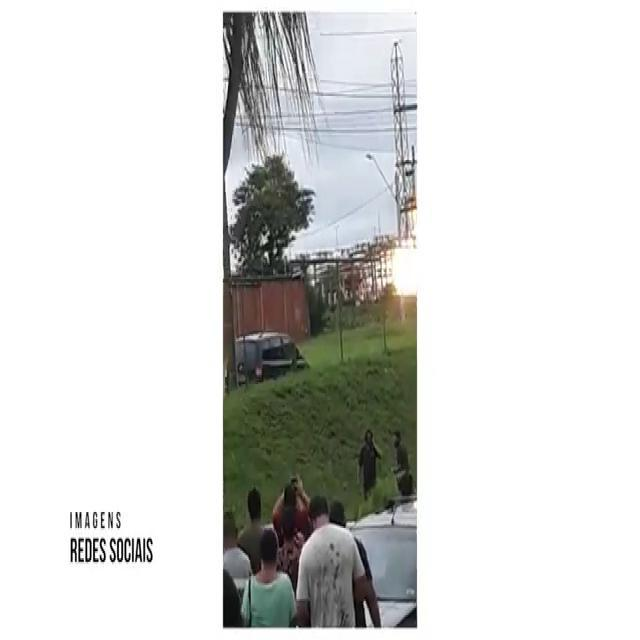Fire: (394, 248, 420, 298)
